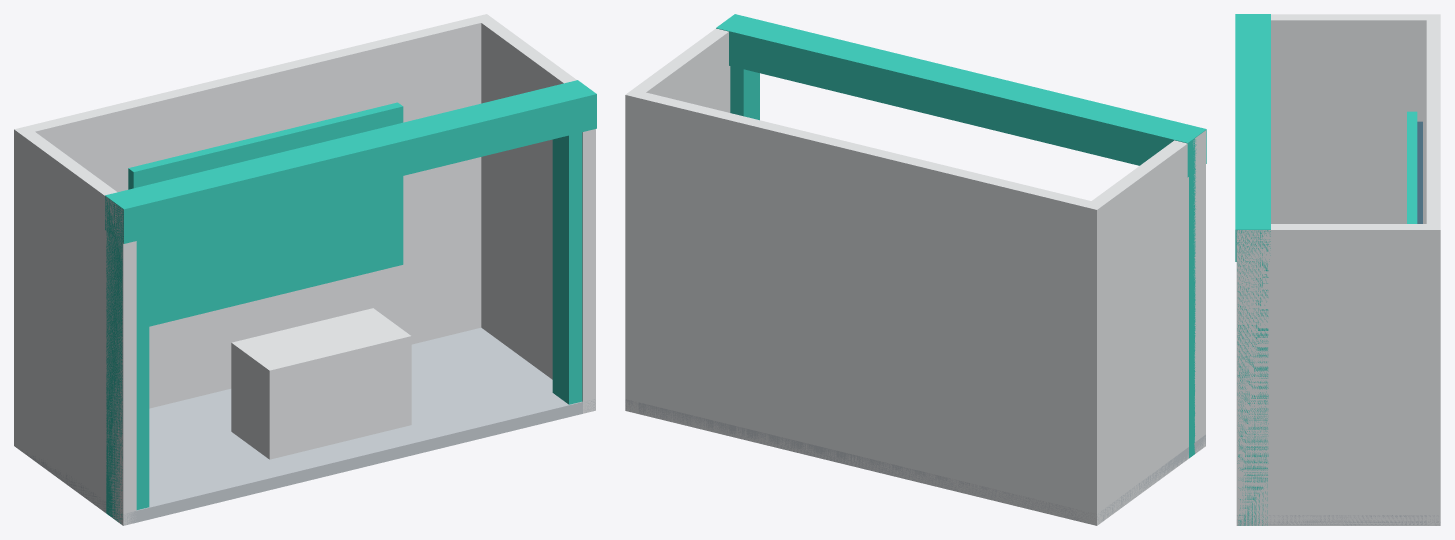
The picture shows the model from 3 angles, left to right: view 1: azimuth 30°, elevation 25°; view 2: azimuth 150°, elevation 25°; view 3: azimuth 270°, elevation 25°; orthographic projection. The views are drawn at different scales.
Visible parts, largest first — view 1: Exhibition Booth Concept; view 2: Exhibition Booth Concept; view 3: Exhibition Booth Concept.
Part boxes in pixels (x1,y1,x2,y2): Exhibition Booth Concept: (14,14,596,525); Exhibition Booth Concept: (625,14,1206,525); Exhibition Booth Concept: (1235,14,1440,525).
Size of the model in its own units: 5 by 3.2 by 2.01.
